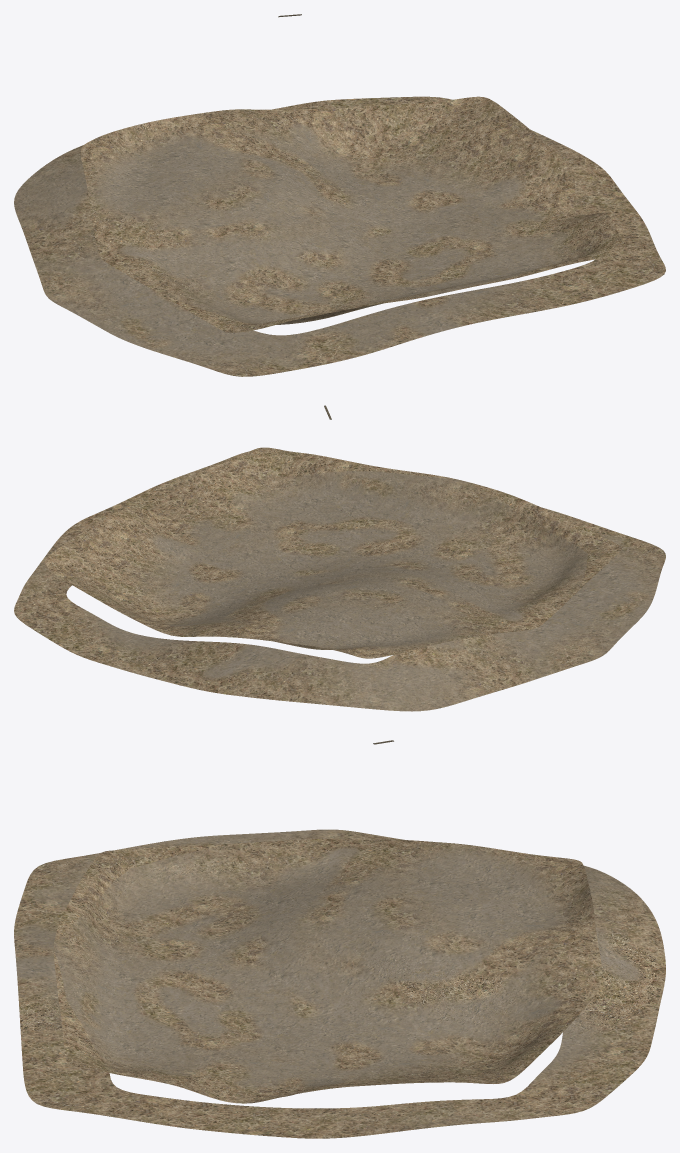
Rendered from ground.glb.
3 views of the same model, one above another, from view 1: azimuth 30°, elevation 25°; view 2: azimuth 150°, elevation 25°; view 3: azimuth 270°, elevation 25° (orthographic). The views are drawn at different scales.
Parts seen in each view (by area): view 1: Object_142; view 2: Object_142; view 3: Object_142.
Boxes of the visible parts, x1=… form: Object_142: x1=14, y1=96, x2=665, y2=376; Object_142: x1=14, y1=447, x2=665, y2=711; Object_142: x1=14, y1=829, x2=665, y2=1138.
Size of the model in its own units: 43.09 by 15.87 by 38.37.
2 materials, 2 textured.
